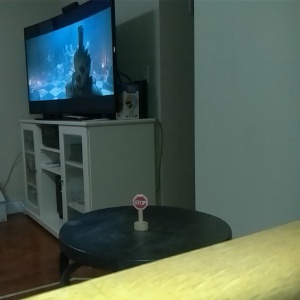stop sign: (130, 192, 150, 232)
